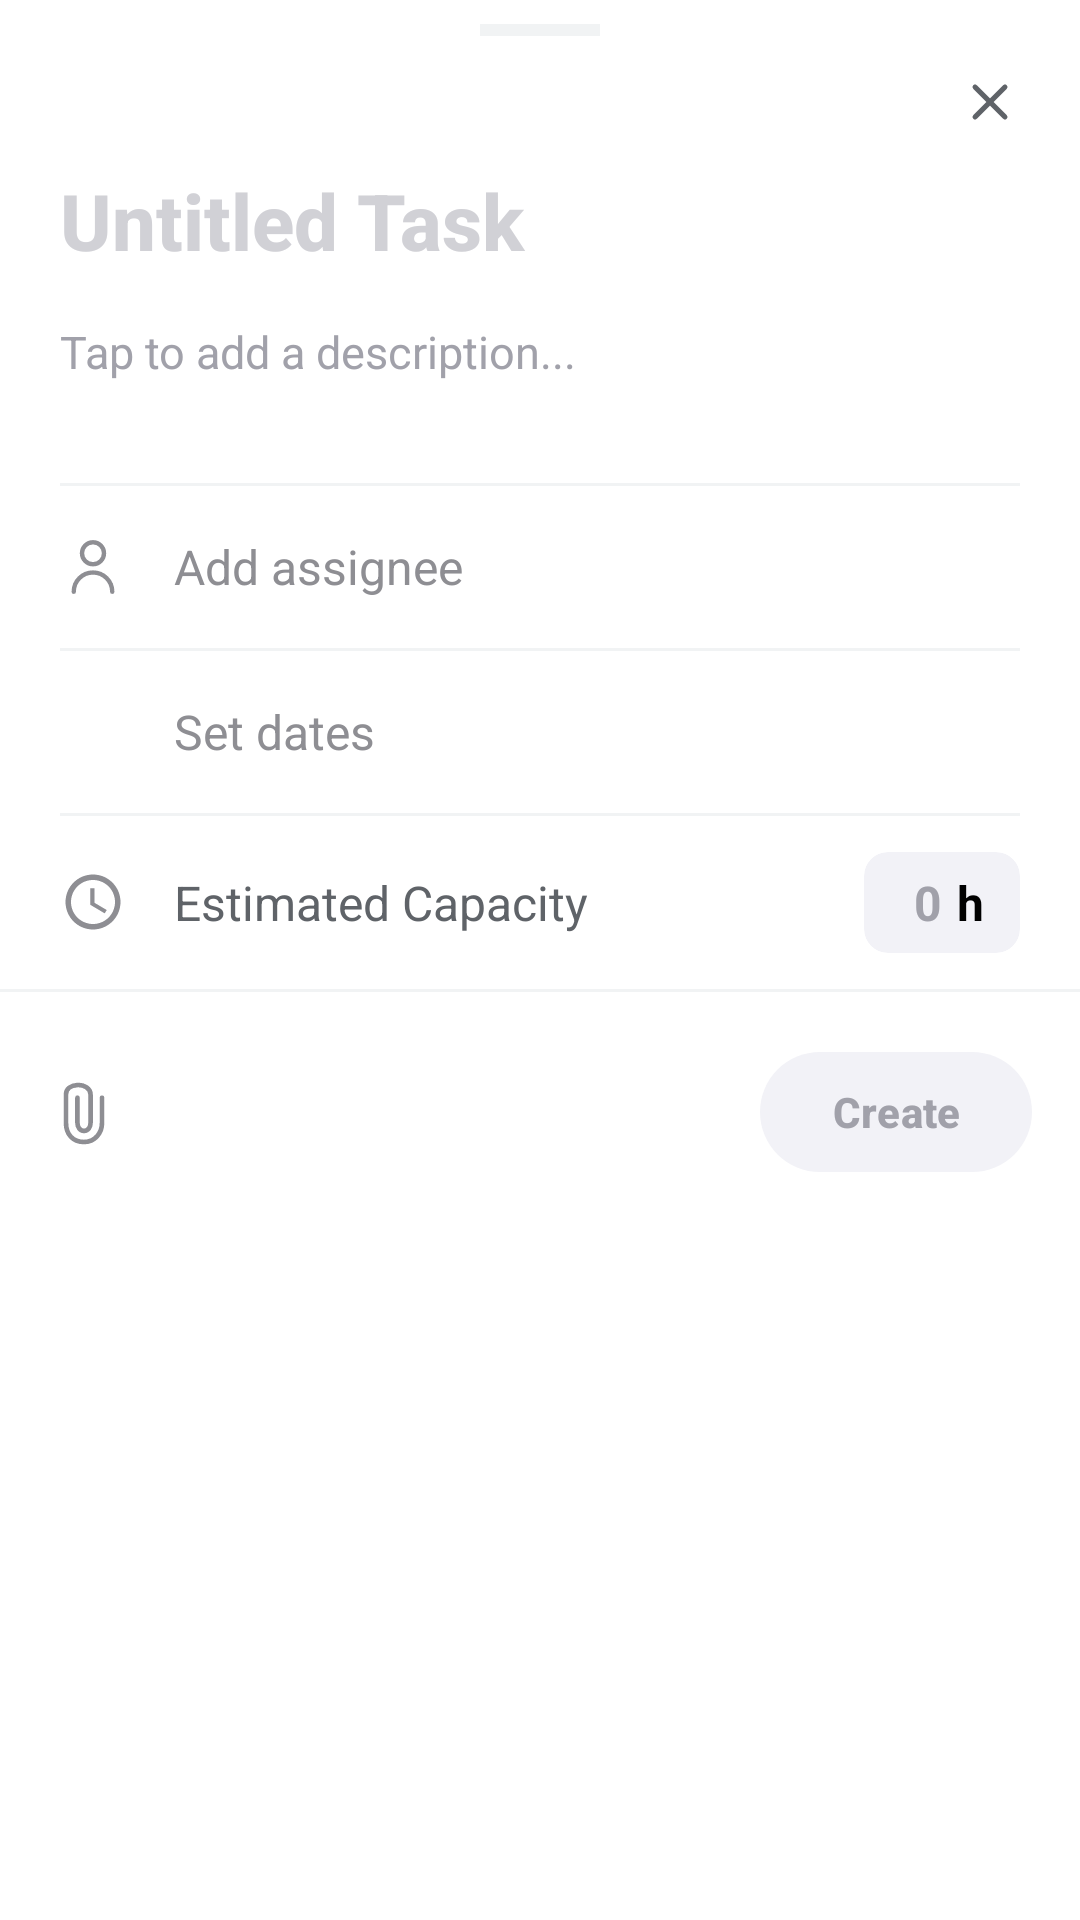

Where to tap for icons on this 1080px×1920px app screen, as (x,y):
attachment: (84,1113)
clock: (93,902)
close: (990,102)
